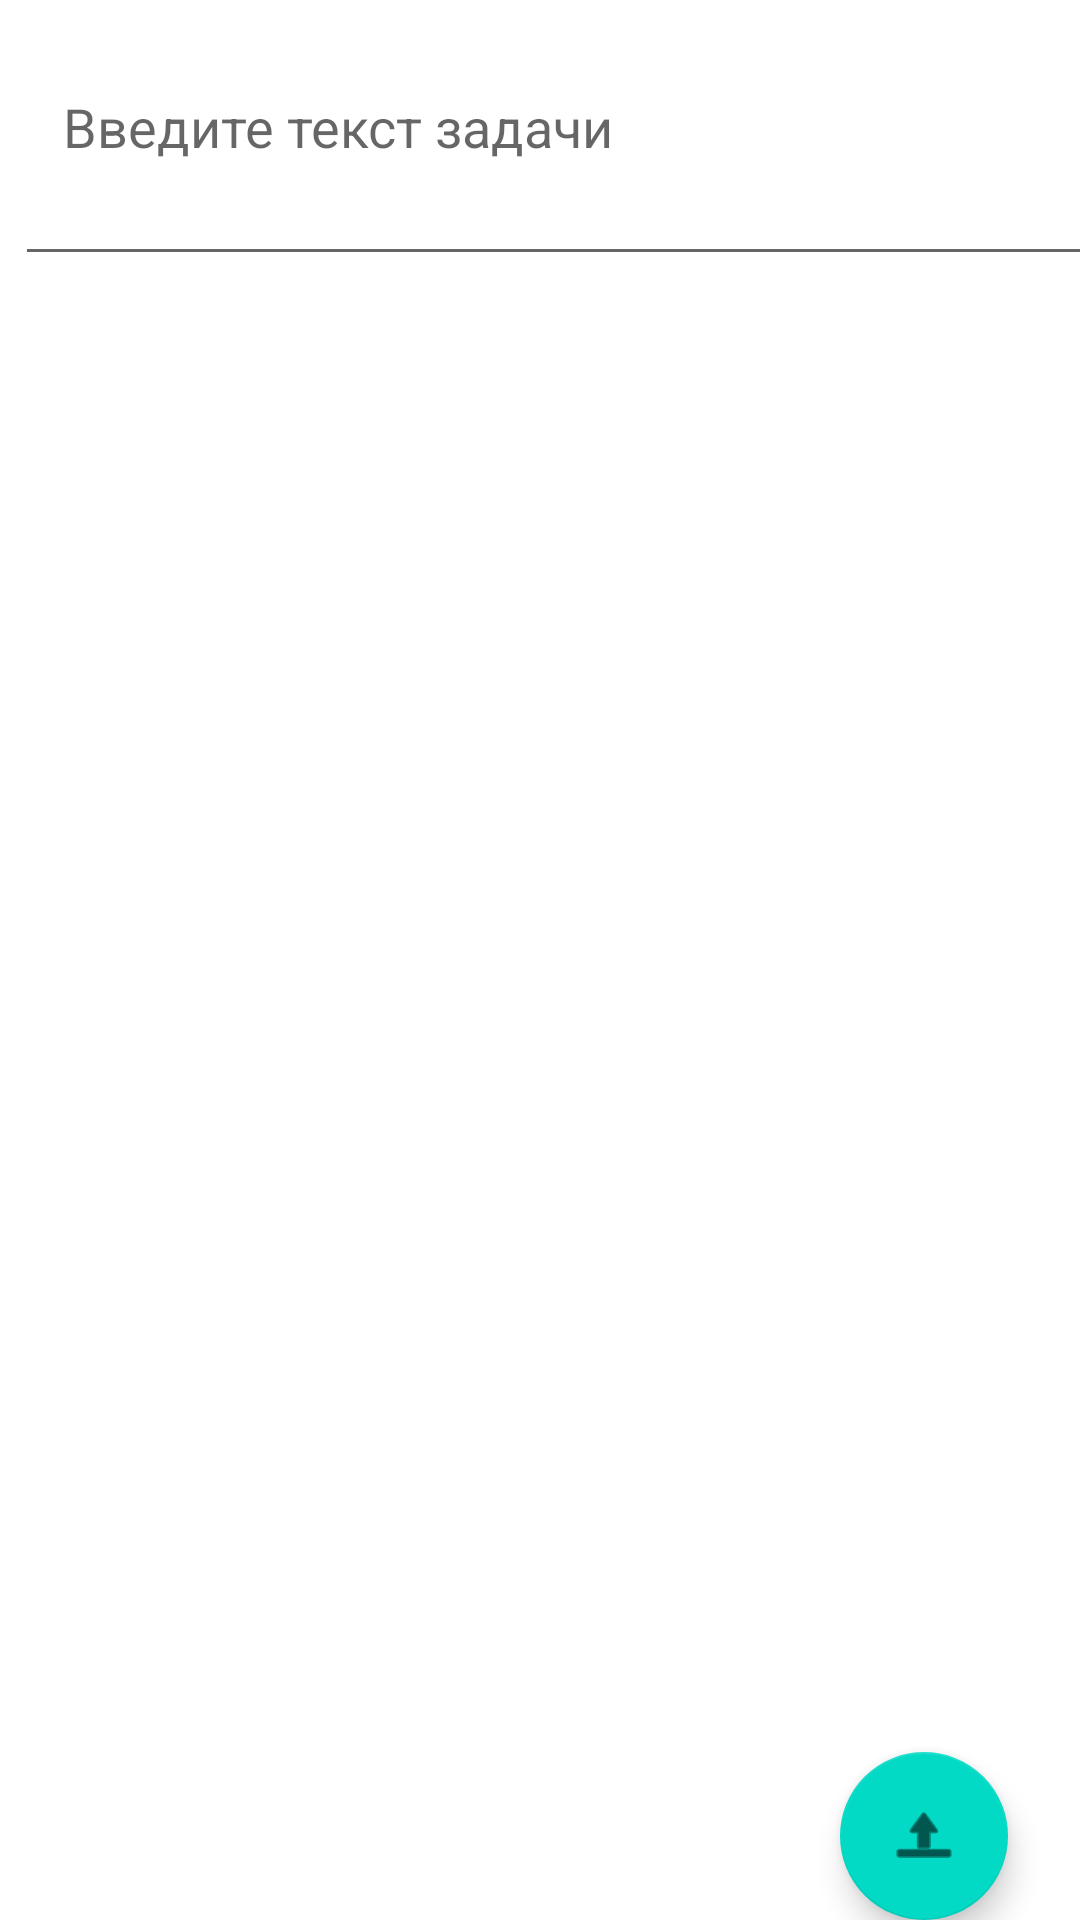

Named icons in this screenshot (1080px×1920px) and their bounding boxes, (x1, y1, x2, y2):
upload you tube: (840, 1752, 1008, 1920)
